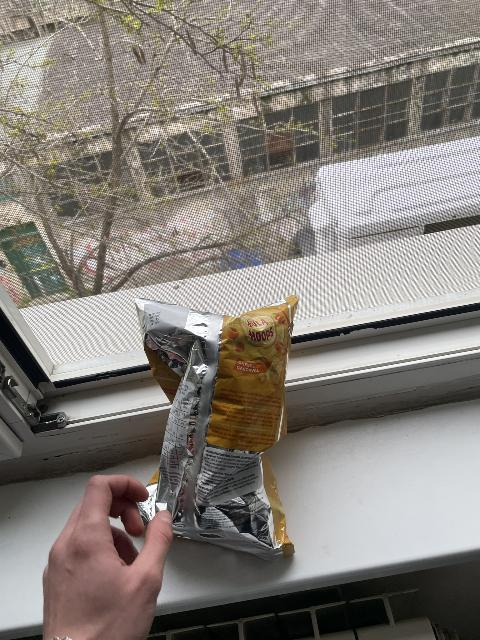Chio Hula Hoops Cheese 70g: (132, 298, 304, 557)
